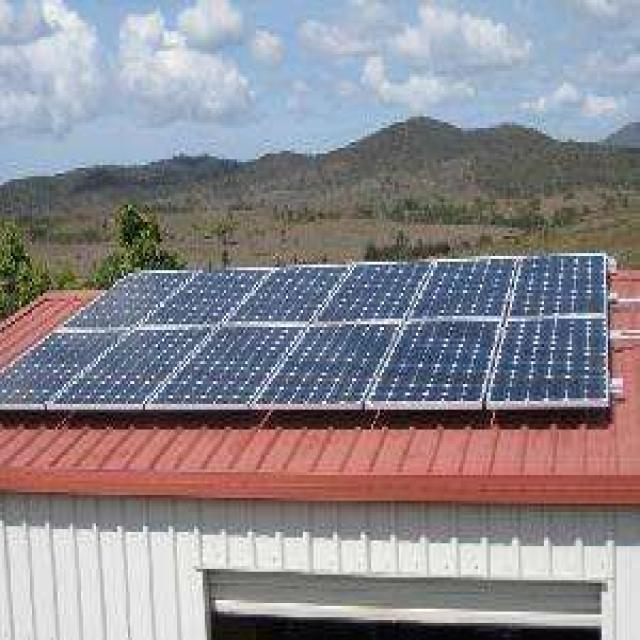dust-solar-panel: (1, 253, 608, 410)
